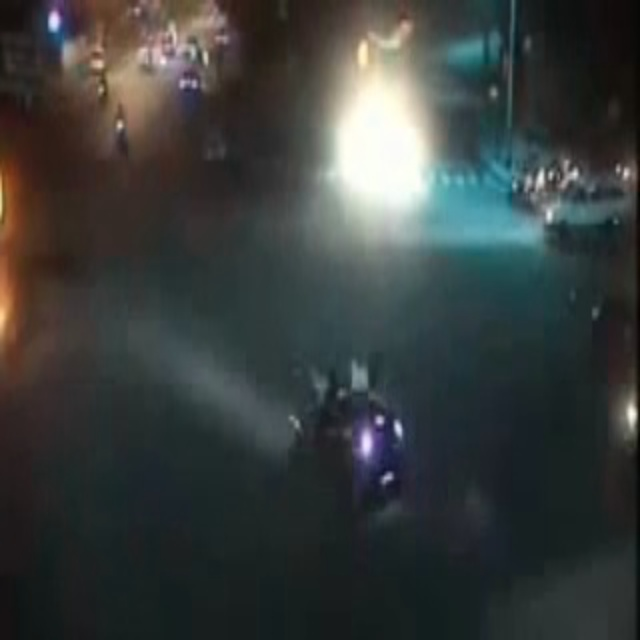acc: (281, 355, 408, 517)
